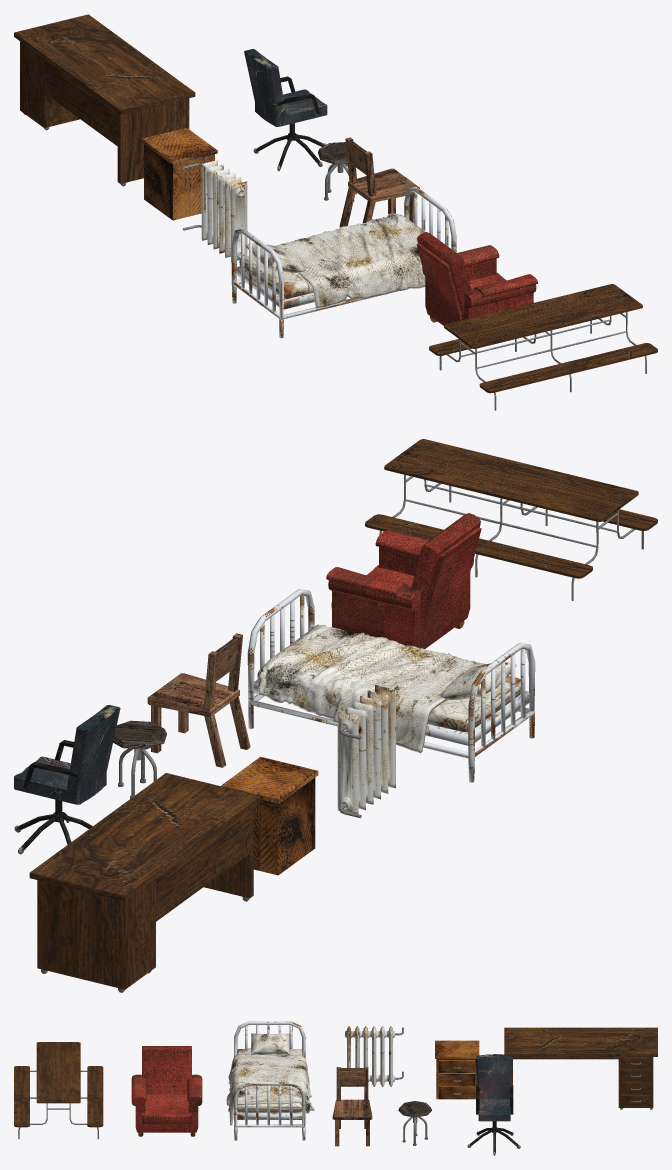
File: PSX Asset Pack-free.glb
The picture shows the model from 3 angles, top to bottom: view 1: azimuth 30°, elevation 25°; view 2: azimuth 150°, elevation 25°; view 3: azimuth 270°, elevation 25°; orthographic projection. The views are drawn at different scales.
Parts seen in each view (by area): view 1: Plane.001, bed, caffetaria.001, Armchair red, Cube.051, Sphere, radiator small, chair, chim chair.001; view 2: Plane.001, bed, caffetaria.001, Armchair red, Cube.051, radiator small, Sphere, chair, chim chair.001; view 3: bed, Plane.001, Armchair red, caffetaria.001, Sphere, chair, radiator small, Cube.051, chim chair.001, Cube.053, Cube.054, Cube.052 (+4 smaller).
Boxes of the visible parts, x1,y1,x2,y2 form: Plane.001: (14, 14, 195, 186); bed: (231, 187, 456, 338); caffetaria.001: (429, 284, 657, 410); Armchair red: (416, 232, 537, 325); Cube.051: (141, 127, 217, 220); Sphere: (244, 49, 327, 171); radiator small: (182, 160, 247, 262); chair: (339, 137, 419, 227); chim chair.001: (318, 142, 356, 201); Plane.001: (29, 773, 261, 992); bed: (247, 589, 535, 782); caffetaria.001: (365, 439, 657, 600); Armchair red: (326, 513, 481, 648); Cube.051: (221, 756, 318, 875); radiator small: (337, 685, 395, 818); Sphere: (14, 705, 120, 854); chair: (147, 633, 250, 767); chim chair.001: (113, 720, 166, 798); bed: (226, 1021, 314, 1140); Plane.001: (504, 1027, 657, 1109); Armchair red: (131, 1046, 202, 1136); caffetaria.001: (14, 1042, 103, 1139); Sphere: (467, 1054, 520, 1155); chair: (332, 1067, 372, 1146); radiator small: (345, 1026, 403, 1086); Cube.051: (435, 1040, 479, 1099); chim chair.001: (398, 1101, 431, 1145); Cube.053: (438, 1073, 475, 1086); Cube.054: (438, 1086, 475, 1099); Cube.052: (438, 1060, 475, 1072).
Size of the model in its own units: 2.93 by 1.35 by 9.97.
13 materials, 12 textured.
